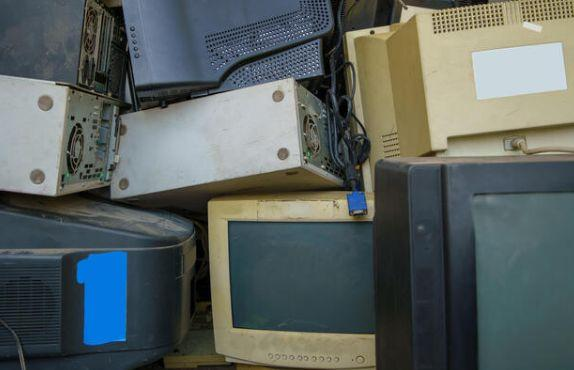electronic: (371, 153, 573, 370), (353, 1, 573, 164), (108, 74, 351, 212), (1, 196, 196, 365), (206, 191, 380, 368), (123, 0, 328, 102), (2, 73, 123, 198), (1, 1, 128, 101)
